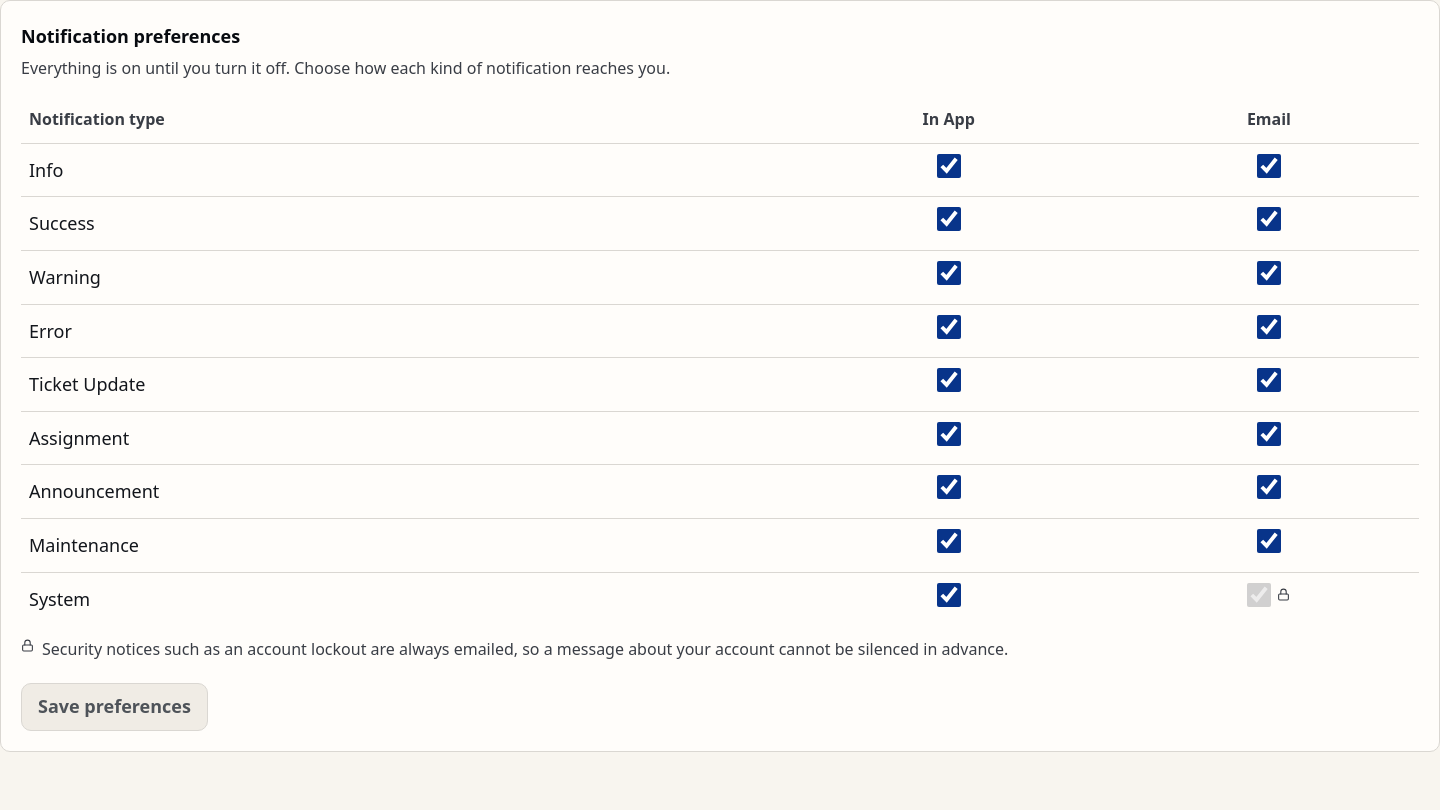
Test: saving › drops a cell toggled back to where it started
The image size is (1440, 810).
Step 1. Click the 6th checkbox named "Email notifications for Warning" → (1269, 273), box [1257,261,1281,285]
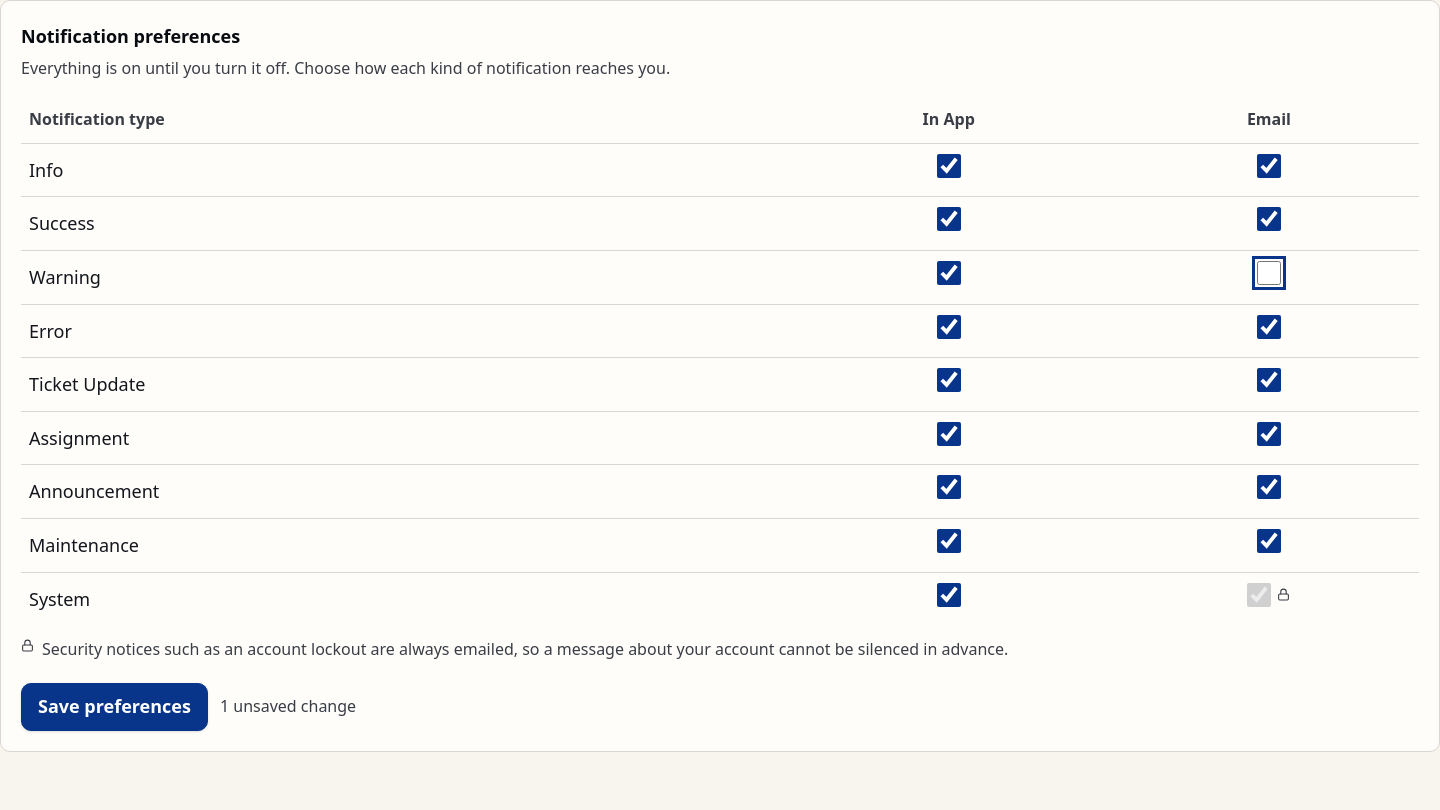
Step 2. Click the 6th checkbox named "Email notifications for Warning" → (1269, 273), box [1257,261,1281,285]
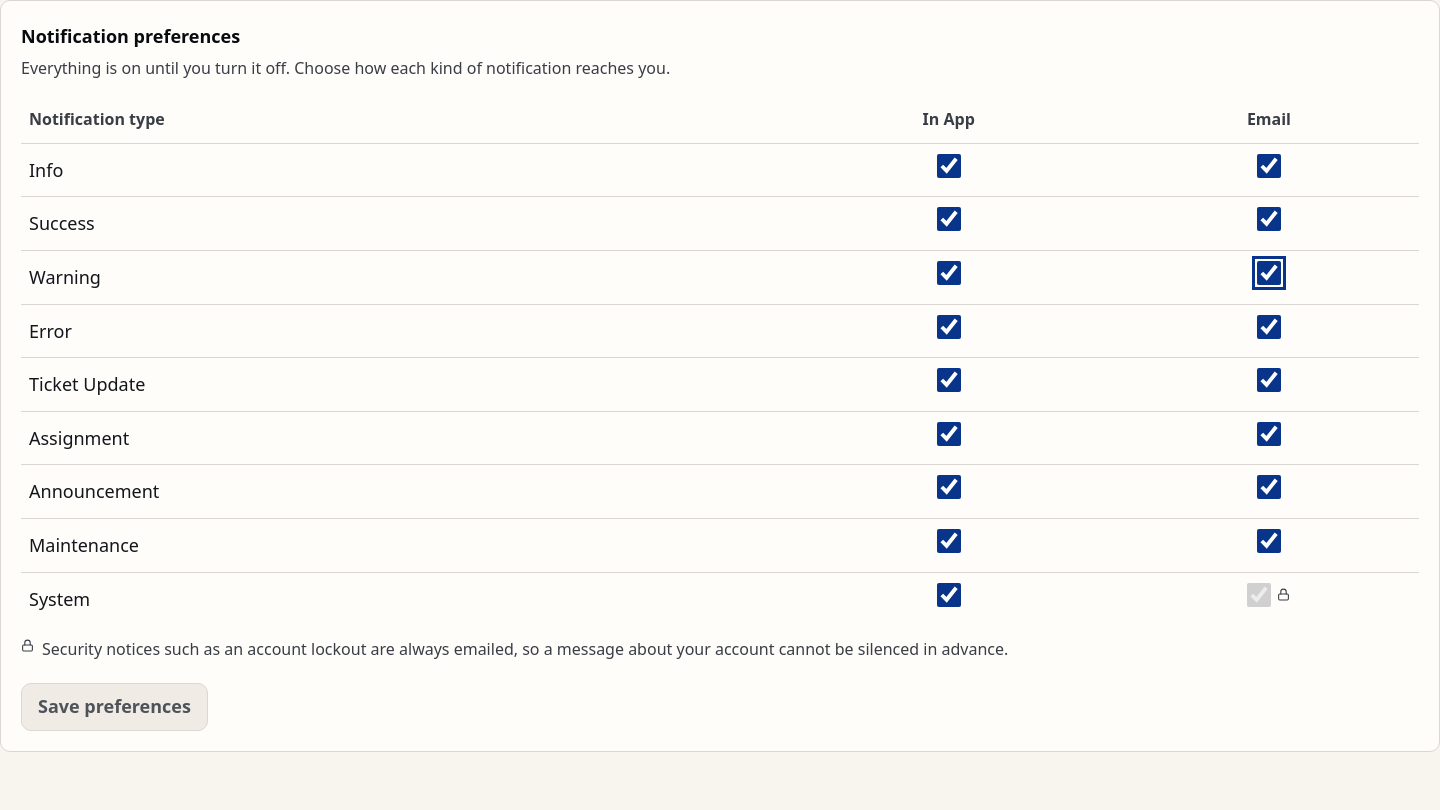
Now the button "Save preferences" is disabled, box [21,683,208,731]
Now the text "unsaved change" is gone
